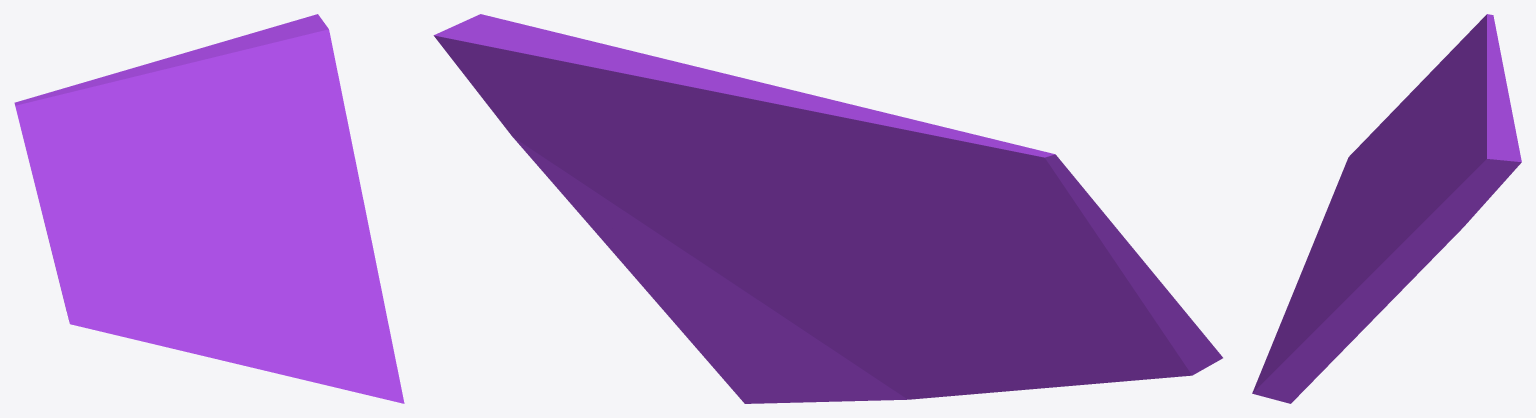
The model's file is Window_129_2_chunks.fbx.
The picture shows the model from 3 angles, left to right: view 1: azimuth 30°, elevation 25°; view 2: azimuth 150°, elevation 25°; view 3: azimuth 270°, elevation 25°; orthographic projection. The views are drawn at different scales.
Visible parts, largest first — view 1: Window_129_2_0, Window_129_2_9, Window_129_2_7, Window_129_2_8, Window_129_2_3, Window_129_2_5, Window_129_2_2, Window_129_2_4, Window_129_2_1, Window_129_2_6; view 2: Window_129_2_1, Window_129_2_0, Window_129_2_9, Window_129_2_2, Window_129_2_3, Window_129_2_5, Window_129_2_8, Window_129_2_7, Window_129_2_6; view 3: Window_129_2_0, Window_129_2_1, Window_129_2_8, Window_129_2_9, Window_129_2_7, Window_129_2_3, Window_129_2_5, Window_129_2_2, Window_129_2_4, Window_129_2_6.
Part boxes in pixels (x1=…): Window_129_2_0: x1=222, y1=159, x2=404, y2=403; Window_129_2_9: x1=14, y1=66, x2=193, y2=188; Window_129_2_7: x1=164, y1=103, x2=298, y2=219; Window_129_2_8: x1=181, y1=27, x2=330, y2=124; Window_129_2_3: x1=136, y1=182, x2=222, y2=360; Window_129_2_5: x1=15, y1=105, x2=151, y2=217; Window_129_2_2: x1=42, y1=211, x2=149, y2=343; Window_129_2_4: x1=93, y1=210, x2=204, y2=356; Window_129_2_1: x1=268, y1=14, x2=354, y2=180; Window_129_2_6: x1=137, y1=54, x2=208, y2=110; Window_129_2_1: x1=433, y1=16, x2=840, y2=269; Window_129_2_0: x1=587, y1=222, x2=970, y2=403; Window_129_2_9: x1=749, y1=100, x2=1054, y2=230; Window_129_2_2: x1=990, y1=253, x2=1222, y2=388; Window_129_2_3: x1=838, y1=219, x2=1032, y2=394; Window_129_2_5: x1=899, y1=154, x2=1136, y2=266; Window_129_2_8: x1=476, y1=14, x2=757, y2=167; Window_129_2_7: x1=719, y1=161, x2=870, y2=242; Window_129_2_6: x1=701, y1=68, x2=831, y2=122; Window_129_2_0: x1=1252, y1=193, x2=1408, y2=403; Window_129_2_1: x1=1403, y1=138, x2=1521, y2=283; Window_129_2_8: x1=1434, y1=95, x2=1516, y2=189; Window_129_2_9: x1=1416, y1=14, x2=1504, y2=142; Window_129_2_7: x1=1389, y1=121, x2=1460, y2=205; Window_129_2_3: x1=1304, y1=133, x2=1421, y2=264; Window_129_2_5: x1=1407, y1=14, x2=1486, y2=137; Window_129_2_2: x1=1325, y1=83, x2=1419, y2=213; Window_129_2_4: x1=1310, y1=117, x2=1408, y2=251; Window_129_2_6: x1=1458, y1=70, x2=1508, y2=125.
Size of the model in its own units: 821 by 644 by 597.
